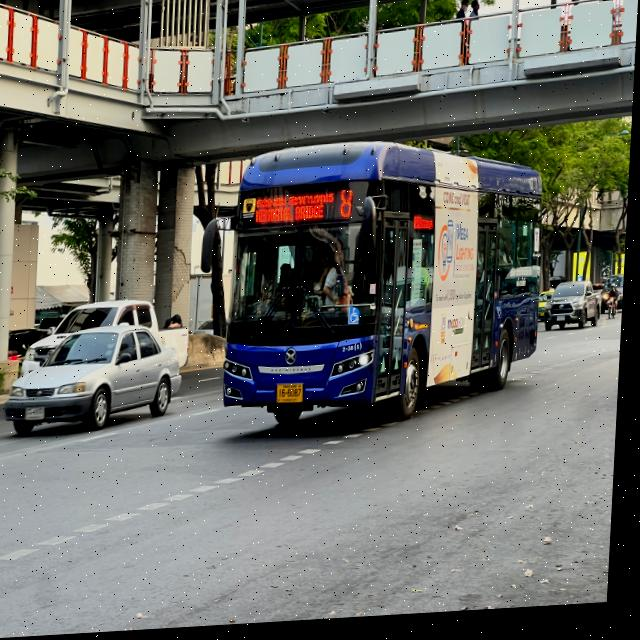Bus Line Number: (339, 188, 359, 224)
Bus Side Number: (343, 344, 367, 360)
Destination Sign: (256, 191, 338, 229)
TSB-Bus: (223, 132, 554, 449)
